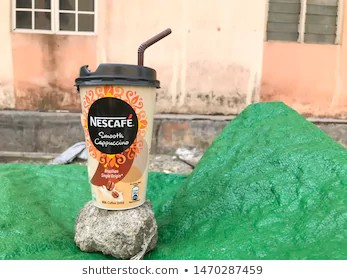nescafe-cappe: (77, 27, 177, 210)
